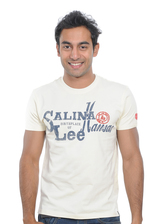clothoes: (25, 73, 140, 219)
